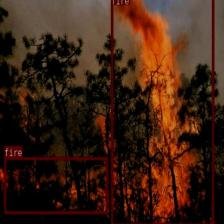fire: (110, 0, 214, 224), (4, 156, 108, 214)
